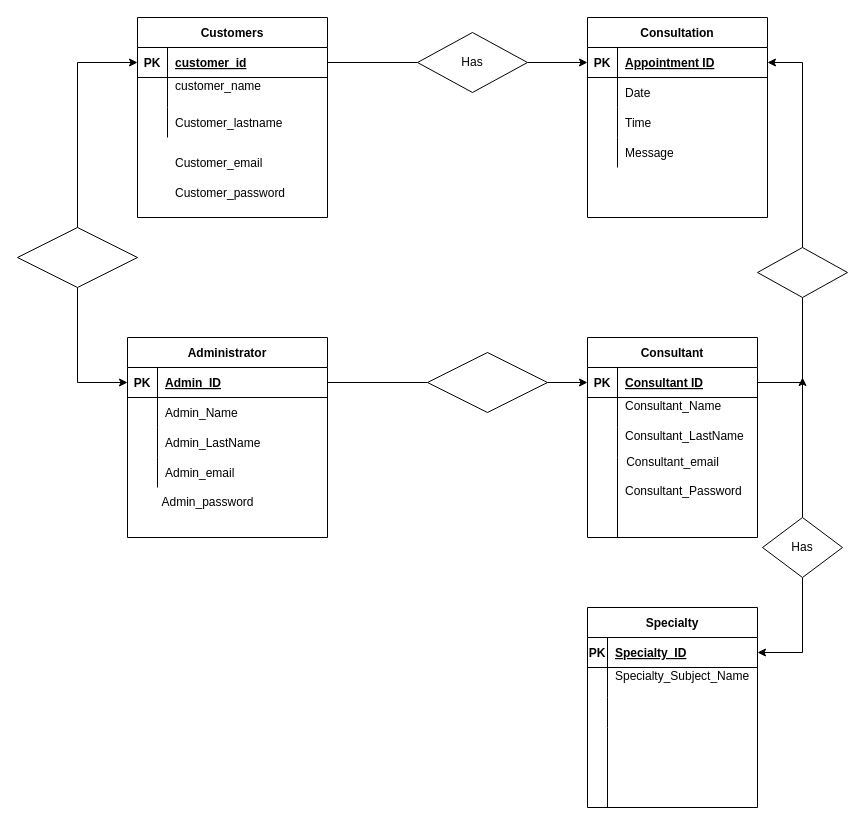
Image size: 865x825. Some labels were removed from this diagram. Each missing label, with the centre of its shape:
Manages: the point at 487,382
oversee(s): the point at 802,272
Reviews/Bills: the point at 77,257
